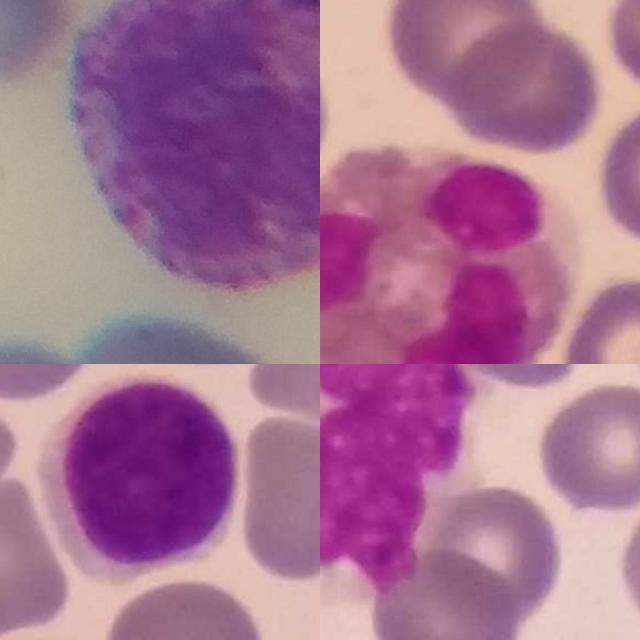Basophil: (69, 0, 320, 292)
Eosinophil: (320, 141, 583, 364)
Lymphocyte: (42, 372, 242, 588)
Monocyte: (320, 364, 471, 596)
